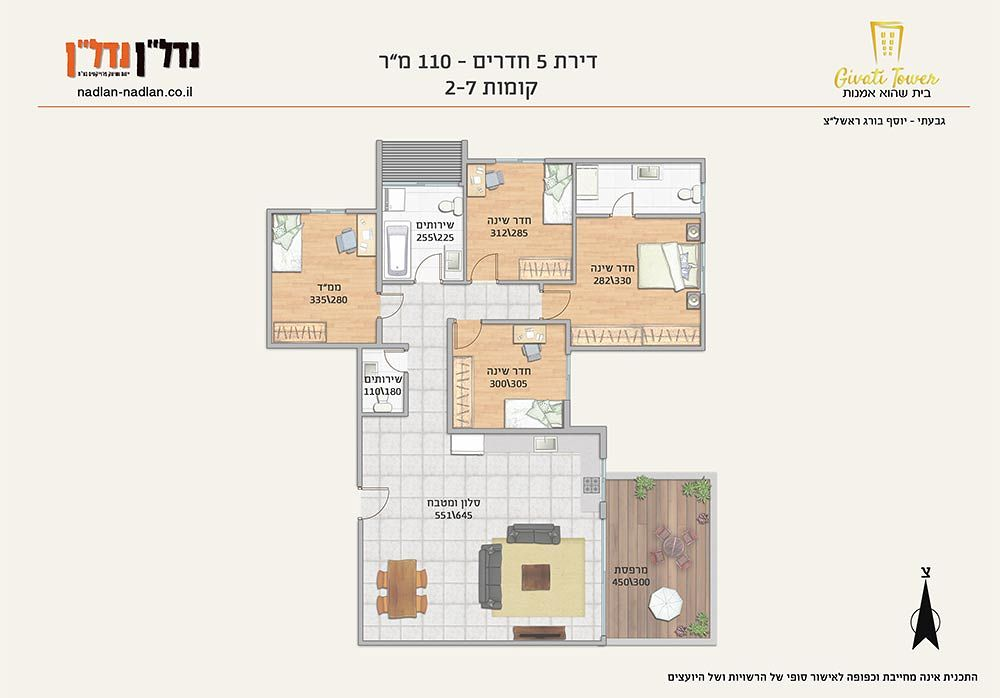door: (365, 484, 394, 519), (544, 286, 575, 317), (470, 248, 500, 278), (607, 185, 637, 215), (412, 251, 441, 279), (454, 324, 482, 351), (378, 349, 406, 376), (385, 289, 410, 319)
